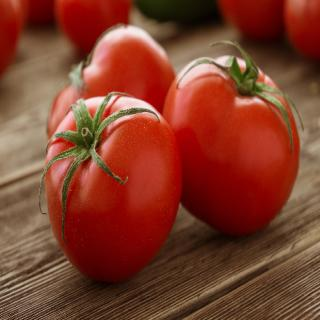Tomat: (39, 91, 184, 284), (163, 41, 304, 237)
